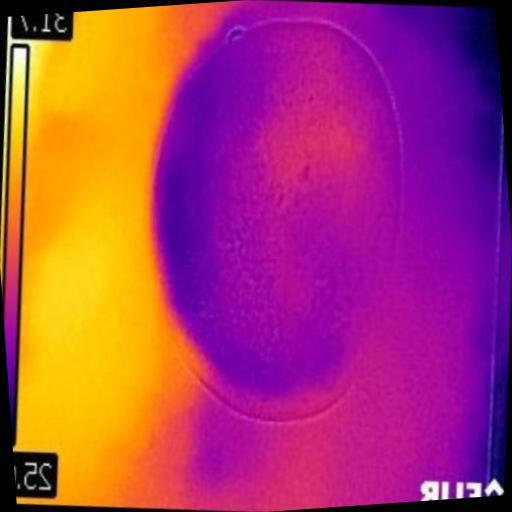alphanso: (155, 21, 401, 419)
